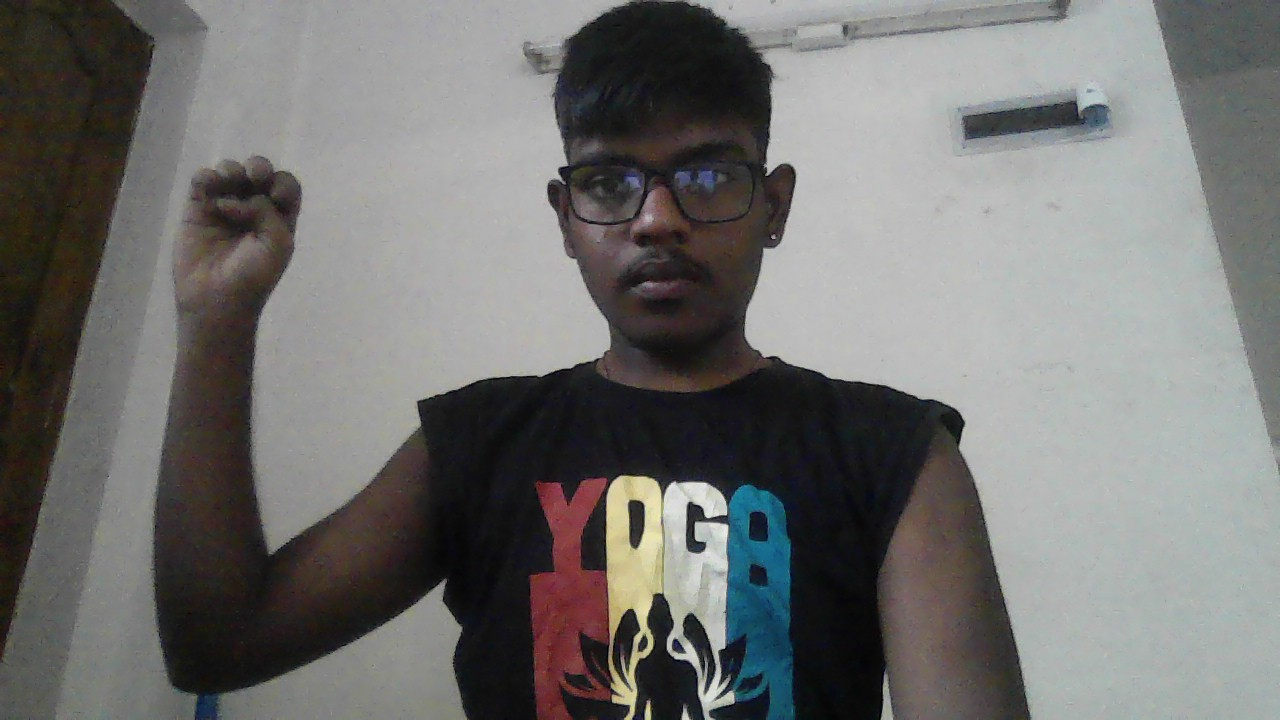E: (170, 154, 303, 324)
